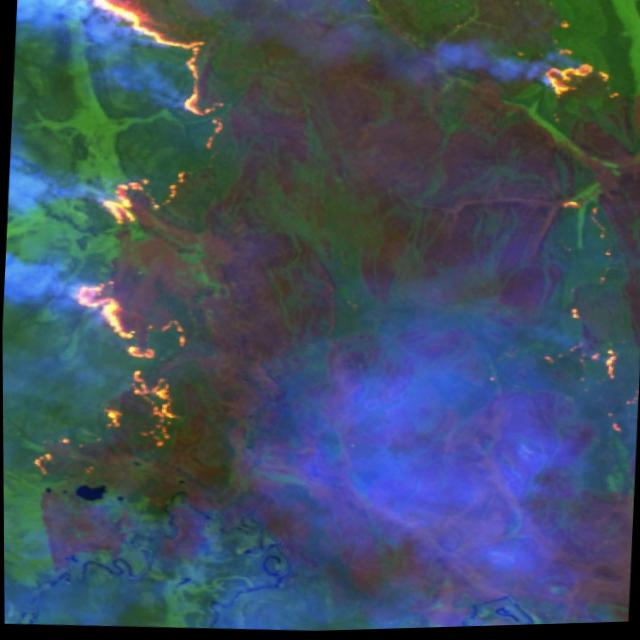fire: (24, 0, 246, 484), (531, 51, 623, 110)
